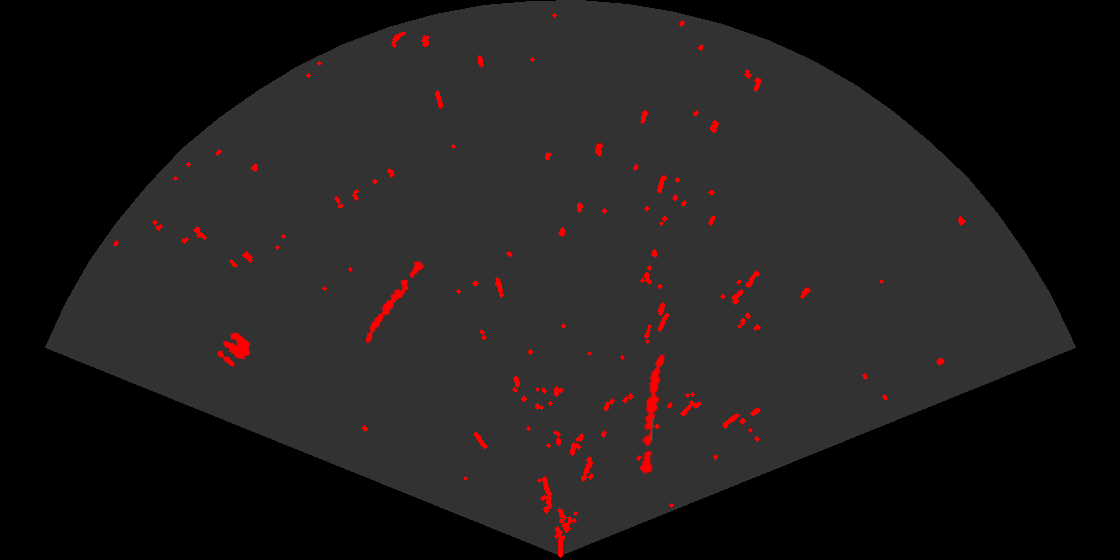ball: (216, 331, 252, 368)
chain: (364, 260, 426, 344), (637, 352, 666, 475)
